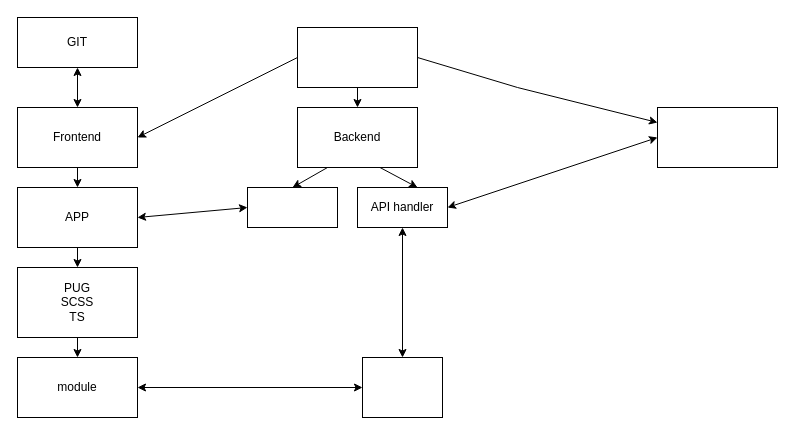
Some shapes in this 795 by 435 pixel diagram are drawn without their labels. The centre of each missing label's shape, as x and y in pixels:
Fetch: (402,387)
MODX: (292,207)
БД (MySQL): (717,137)
Проект: (357,57)
